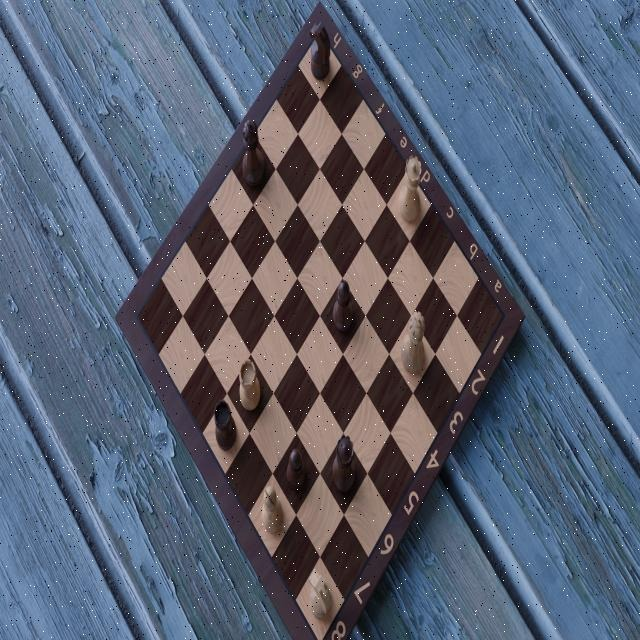black-bishop: (331, 273, 356, 335)
black-king: (239, 115, 269, 189)
black-knight: (306, 17, 333, 86)
black-pawn: (283, 442, 308, 492)
black-queen: (332, 434, 360, 500)
black-rook: (212, 394, 240, 455)
white-bishop: (260, 480, 286, 540)
white-king: (399, 305, 430, 379)
white-knight: (306, 565, 337, 627)
white-queen: (399, 151, 425, 225)
white-rook: (236, 355, 264, 413)
